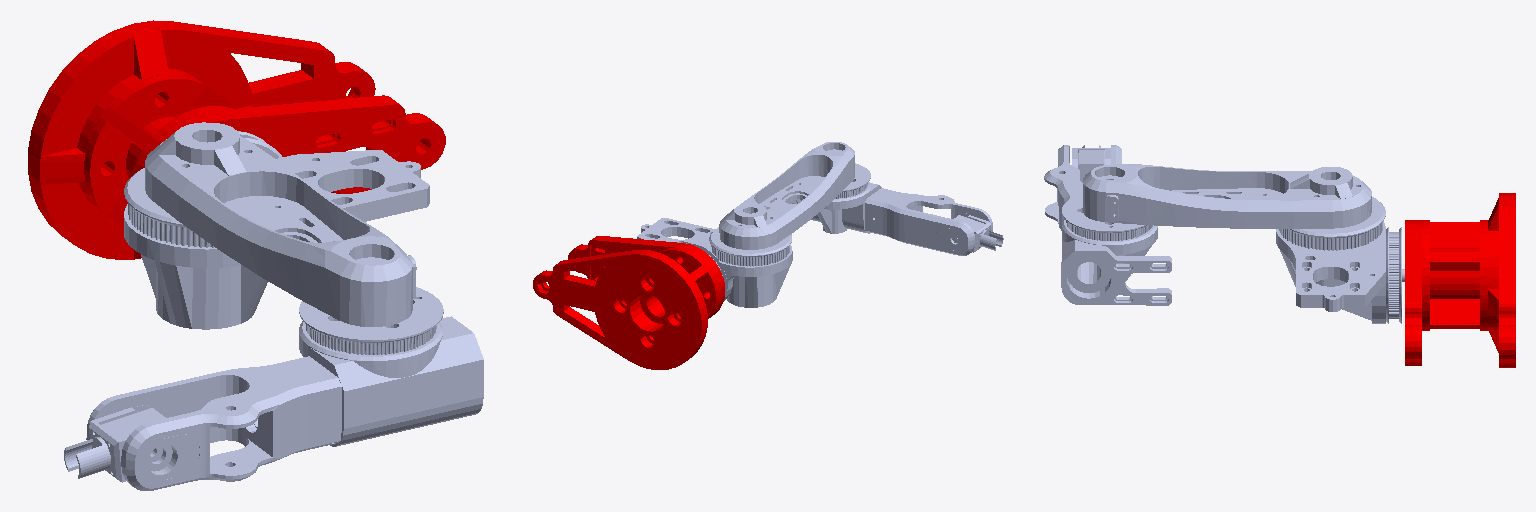
robot.urdf — URDF:
<?xml version="1.0" encoding="utf-8"?>
<robot
  name="URDF">
  <link
    name="base_link">
    <inertial>
      <origin
        xyz="0.101802087587089 0.0081796473384829 0.0100327501397363"
        rpy="0 0 0" />
      <mass
        value="0.181298667900115" />
      <inertia
        ixx="0.000159071954256992"
        ixy="-1.8115969762806E-20"
        ixz="5.14541469549195E-06"
        iyy="0.000351196552726383"
        iyz="-5.15340969663753E-19"
        izz="0.000501140927974812" />
    </inertial>
    <visual>
      <origin
        xyz="0 0 0"
        rpy="0 0 0" />
      <geometry>
        <mesh
          filename="meshes/base_link.STL" />
      </geometry>
      <material
        name="">
        <color
          rgba="1 0 0 1" />
      </material>
    </visual>
    <collision>
      <origin
        xyz="0 0 0"
        rpy="0 0 0" />
      <geometry>
        <mesh
          filename="meshes/base_link.STL" />
      </geometry>
    </collision>
  </link>
  <link
    name="Link01">
    <inertial>
      <origin
        xyz="0.0176327936819989 0.038189494716721 -3.98986399474666E-17"
        rpy="0 0 0" />
      <mass
        value="0.191152900301388" />
      <inertia
        ixx="0.000103806838716546"
        ixy="-9.35892927618755E-07"
        ixz="-1.52970326729372E-21"
        iyy="0.000280345932810986"
        iyz="5.53089655270654E-21"
        izz="0.000232504593445184" />
    </inertial>
    <visual>
      <origin
        xyz="0 0 0"
        rpy="0 0 0" />
      <geometry>
        <mesh
          filename="meshes/Link01.STL" />
      </geometry>
      <material
        name="">
        <color
          rgba="1 0 0 1" />
      </material>
    </visual>
    <collision>
      <origin
        xyz="0 0 0"
        rpy="0 0 0" />
      <geometry>
        <mesh
          filename="meshes/Link01.STL" />
      </geometry>
    </collision>
  </link>
  <joint
    name="Joint00"
    type="revolute">
    <origin
      xyz="0.085859 -0.022188 0.0081796"
      rpy="-3.1416 0 0" />
    <parent
      link="base_link" />
    <child
      link="Link01" />
    <axis
      xyz="0 1 0" />
    <limit
      lower="0"
      upper="0"
      effort="0"
      velocity="0" />
  </joint>
  <link
    name="Link02">
    <inertial>
      <origin
        xyz="0.00782487087912773 -0.0410335735365128 0.0103182779314197"
        rpy="0 0 0" />
      <mass
        value="0.235179912438023" />
      <inertia
        ixx="0.000276169678300765"
        ixy="2.27158561018292E-05"
        ixz="-7.52865707634932E-05"
        iyy="0.000282260289195123"
        iyz="2.06927803015461E-05"
        izz="0.000167519936287166" />
    </inertial>
    <visual>
      <origin
        xyz="0 0 0"
        rpy="0 0 0" />
      <geometry>
        <mesh
          filename="meshes/Link02.STL" />
      </geometry>
      <material
        name="">
        <color
          rgba="0.792156862745098 0.819607843137255 0.933333333333333 1" />
      </material>
    </visual>
    <collision>
      <origin
        xyz="0 0 0"
        rpy="0 0 0" />
      <geometry>
        <mesh
          filename="meshes/Link02.STL" />
      </geometry>
    </collision>
  </link>
  <joint
    name="Joint01"
    type="revolute">
    <origin
      xyz="0 0.06 0"
      rpy="0 1.0141 -3.1416" />
    <parent
      link="Link01" />
    <child
      link="Link02" />
    <axis
      xyz="0 1 0" />
    <limit
      lower="0"
      upper="0"
      effort="0"
      velocity="0" />
  </joint>
  <link
    name="Link03">
    <inertial>
      <origin
        xyz="5.42938245436178E-05 -0.051396239840283 0.0208219337809401"
        rpy="0 0 0" />
      <mass
        value="0.226112298123441" />
      <inertia
        ixx="0.000711926885444204"
        ixy="1.09476834417854E-06"
        ixz="-2.31209584406504E-08"
        iyy="7.91914674292039E-05"
        iyz="9.89109268072926E-06"
        izz="0.000771932951422661" />
    </inertial>
    <visual>
      <origin
        xyz="0 0 0"
        rpy="0 0 0" />
      <geometry>
        <mesh
          filename="meshes/Link03.STL" />
      </geometry>
      <material
        name="">
        <color
          rgba="0.792156862745098 0.819607843137255 0.933333333333333 1" />
      </material>
    </visual>
    <collision>
      <origin
        xyz="0 0 0"
        rpy="0 0 0" />
      <geometry>
        <mesh
          filename="meshes/Link03.STL" />
      </geometry>
    </collision>
  </link>
  <joint
    name="Joint02"
    type="revolute">
    <origin
      xyz="0.036253 -0.05378 0.021352"
      rpy="-3.1375 1.0029 -3.1368" />
    <parent
      link="Link02" />
    <child
      link="Link03" />
    <axis
      xyz="0 0 1" />
    <limit
      lower="0"
      upper="0"
      effort="0"
      velocity="0" />
  </joint>
  <link
    name="Link04">
    <inertial>
      <origin
        xyz="-0.0103784659157668 0.00653048081889684 0.00364606809988748"
        rpy="0 0 0" />
      <mass
        value="0.153983625553432" />
      <inertia
        ixx="0.000107798366624182"
        ixy="6.25121774700129E-06"
        ixz="2.81950720717989E-06"
        iyy="8.66123288827626E-05"
        iyz="3.65733673720258E-06"
        izz="7.10591790681928E-05" />
    </inertial>
    <visual>
      <origin
        xyz="0 0 0"
        rpy="0 0 0" />
      <geometry>
        <mesh
          filename="meshes/Link04.STL" />
      </geometry>
      <material
        name="">
        <color
          rgba="0.792156862745098 0.819607843137255 0.933333333333333 1" />
      </material>
    </visual>
    <collision>
      <origin
        xyz="0 0 0"
        rpy="0 0 0" />
      <geometry>
        <mesh
          filename="meshes/Link04.STL" />
      </geometry>
    </collision>
  </link>
  <joint
    name="Joint03"
    type="revolute">
    <origin
      xyz="0 -0.16 0"
      rpy="1.9125 -1.5708 1.2271" />
    <parent
      link="Link03" />
    <child
      link="Link04" />
    <axis
      xyz="1 0 0" />
    <limit
      lower="0"
      upper="0"
      effort="0"
      velocity="0" />
  </joint>
  <link
    name="Link05">
    <inertial>
      <origin
        xyz="0.000886004823744846 -1.12934849522527E-05 0.0430672947714395"
        rpy="0 0 0" />
      <mass
        value="0.0751509228171291" />
      <inertia
        ixx="8.06553735055763E-05"
        ixy="-1.2049495179142E-08"
        ixz="-9.08558305088761E-07"
        iyy="8.79208499002512E-05"
        iyz="-3.29531687522764E-08"
        izz="2.58423554358763E-05" />
    </inertial>
    <visual>
      <origin
        xyz="0 0 0"
        rpy="0 0 0" />
      <geometry>
        <mesh
          filename="meshes/Link05.STL" />
      </geometry>
      <material
        name="">
        <color
          rgba="0.792156862745098 0.819607843137255 0.933333333333333 1" />
      </material>
    </visual>
    <collision>
      <origin
        xyz="0 0 0"
        rpy="0 0 0" />
      <geometry>
        <mesh
          filename="meshes/Link05.STL" />
      </geometry>
    </collision>
  </link>
  <joint
    name="Joint04"
    type="revolute">
    <origin
      xyz="-0.019078 0.015 -0.03376"
      rpy="3.1416 0 -1.5651" />
    <parent
      link="Link04" />
    <child
      link="Link05" />
    <axis
      xyz="0 0 1" />
    <limit
      lower="0"
      upper="0"
      effort="0"
      velocity="0" />
  </joint>
  <link
    name="Link06">
    <inertial>
      <origin
        xyz="0.000212272088516458 0.0237970856450315 -0.000230228857426294"
        rpy="0 0 0" />
      <mass
        value="0.0253471870179816" />
      <inertia
        ixx="2.12345321065453E-06"
        ixy="1.26011470216208E-08"
        ixz="-8.05258430546026E-08"
        iyy="2.99039508507496E-06"
        iyz="-1.87769999049537E-21"
        izz="3.22037392538837E-06" />
    </inertial>
    <visual>
      <origin
        xyz="0 0 0"
        rpy="0 0 0" />
      <geometry>
        <mesh
          filename="meshes/Link06.STL" />
      </geometry>
      <material
        name="">
        <color
          rgba="0.792156862745098 0.819607843137255 0.933333333333333 1" />
      </material>
    </visual>
    <collision>
      <origin
        xyz="0 0 0"
        rpy="0 0 0" />
      <geometry>
        <mesh
          filename="meshes/Link06.STL" />
      </geometry>
    </collision>
  </link>
  <joint
    name="Joint05"
    type="revolute">
    <origin
      xyz="-0.023 0 0.10454"
      rpy="1.5708 1.5708 0" />
    <parent
      link="Link05" />
    <child
      link="Link06" />
    <axis
      xyz="0 0 0" />
    <limit
      lower="0"
      upper="0"
      effort="0"
      velocity="0" />
  </joint>
  <link
    name="EndEffector">
    <inertial>
      <origin
        xyz="5.55111512312578E-17 0.00739129221413612 1.35134958778593E-15"
        rpy="0 0 0" />
      <mass
        value="0.000935702555323347" />
      <inertia
        ixx="4.08791894547897E-08"
        ixy="-7.80005468243363E-23"
        ixz="1.08567455397585E-23"
        iyy="4.55484336412286E-08"
        iyz="-1.3963519598234E-23"
        izz="5.80751168954908E-08" />
    </inertial>
    <visual>
      <origin
        xyz="0 0 0"
        rpy="0 0 0" />
      <geometry>
        <mesh
          filename="meshes/EndEffector.STL" />
      </geometry>
      <material
        name="">
        <color
          rgba="0.792156862745098 0.819607843137255 0.933333333333333 1" />
      </material>
    </visual>
    <collision>
      <origin
        xyz="0 0 0"
        rpy="0 0 0" />
      <geometry>
        <mesh
          filename="meshes/EndEffector.STL" />
      </geometry>
    </collision>
  </link>
  <joint
    name="End_effector_Joint"
    type="fixed">
    <origin
      xyz="-0.017464 0.024 -0.0018071"
      rpy="-0.098139 0.031637 1.5677" />
    <parent
      link="Link06" />
    <child
      link="EndEffector" />
    <axis
      xyz="0 1 0" />
  </joint>
</robot>

--- Render facts (derived) ---
3 views of the same robot in one strip: view 1: azimuth 30°, elevation 25°; view 2: azimuth 150°, elevation 25°; view 3: azimuth 270°, elevation 25° (orthographic).
Robot: URDF — 8 links, 7 joints (6 revolute, 1 fixed); root link base_link; default pose: every joint at zero.
Links seen in each view (by area): view 1: Link03, base_link, Link01, Link05, Link04, Link02, Link06, EndEffector; view 2: base_link, Link03, Link05, Link01, Link02, Link04, Link06; view 3: Link03, Link01, Link04, Link02, base_link, Link05, Link06.
Link boxes in pixels (x1,y1,x2,y2): Link03: [124, 122, 416, 326]; base_link: [28, 20, 375, 259]; Link01: [84, 74, 445, 229]; Link05: [86, 356, 341, 490]; Link04: [299, 287, 483, 446]; Link02: [124, 131, 429, 329]; Link06: [89, 405, 199, 482]; EndEffector: [64, 437, 110, 478]; base_link: [533, 250, 707, 369]; Link03: [709, 142, 854, 266]; Link05: [865, 188, 992, 255]; Link01: [568, 236, 724, 323]; Link02: [637, 218, 792, 307]; Link04: [788, 163, 881, 233]; Link06: [936, 213, 990, 252]; Link03: [1083, 164, 1385, 250]; Link01: [1405, 220, 1487, 365]; Link04: [1061, 193, 1171, 305]; Link02: [1276, 221, 1404, 323]; base_link: [1488, 193, 1515, 367]; Link05: [1044, 145, 1121, 230]; Link06: [1069, 148, 1110, 182].
Bounding box of the posed robot: 0.3403 × 0.3413 × 0.1246 m (x, y, z).
Meshes: 8 distinct files referenced, 8 mesh visuals loaded (8 binary STL).